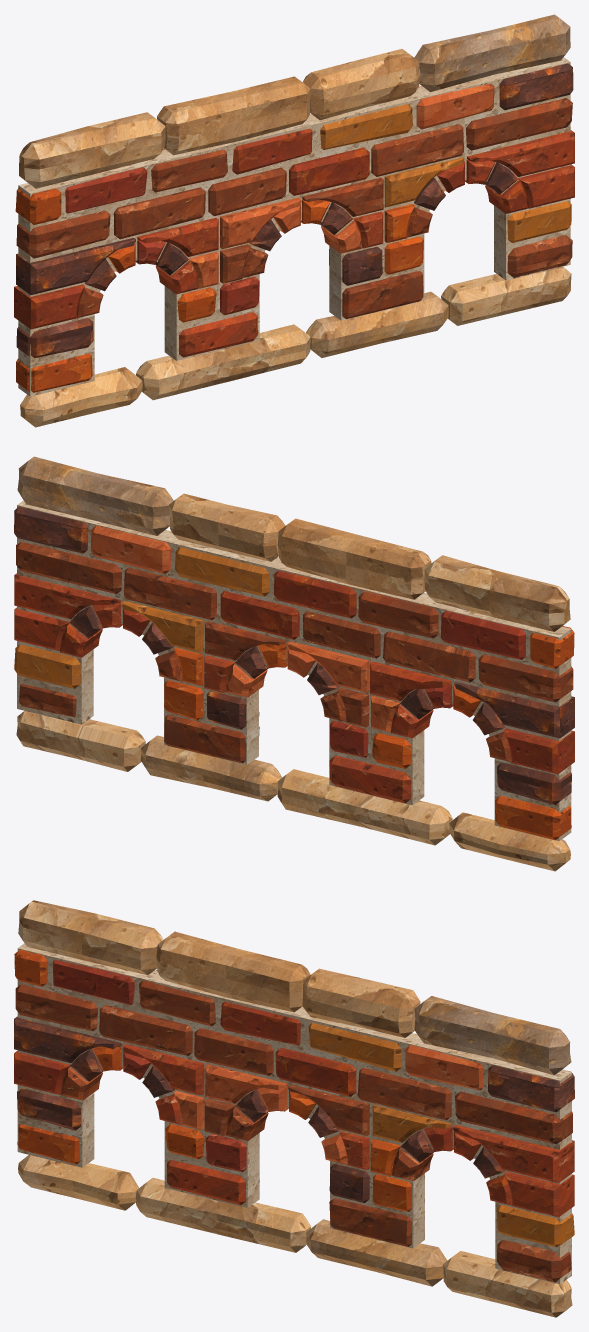
The model's file is railing__clay_brick.glb.
The picture shows the model from 3 angles, top to bottom: view 1: azimuth 30°, elevation 25°; view 2: azimuth 150°, elevation 25°; view 3: azimuth 330°, elevation 25°; orthographic projection.
Parts seen in each view (by area): view 1: model; view 2: model; view 3: model.
Boxes of the visible parts, x1,y1,x2,y2 form: model: [14, 14, 574, 427]; model: [14, 456, 574, 871]; model: [14, 900, 574, 1317].
Bounding box in the file's own units: 1.98 × 0.984 × 0.1376.
Materials: 13 (13 with a texture image).
